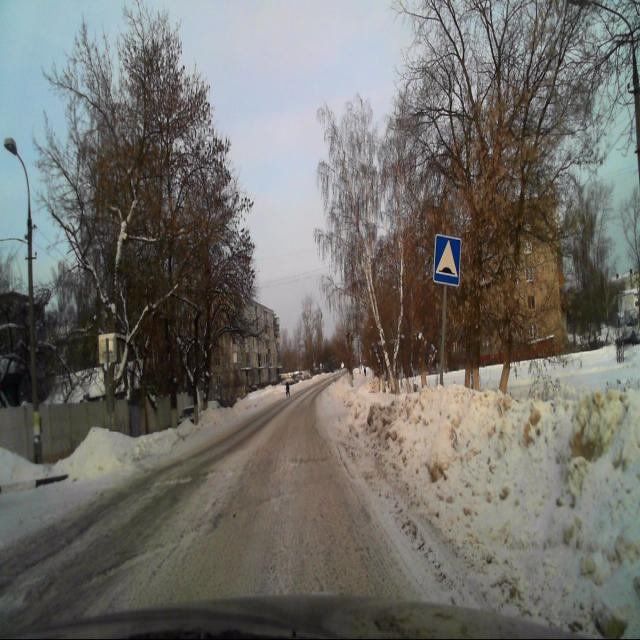object: (440, 285, 448, 385)
road sign: (434, 236, 462, 286)
